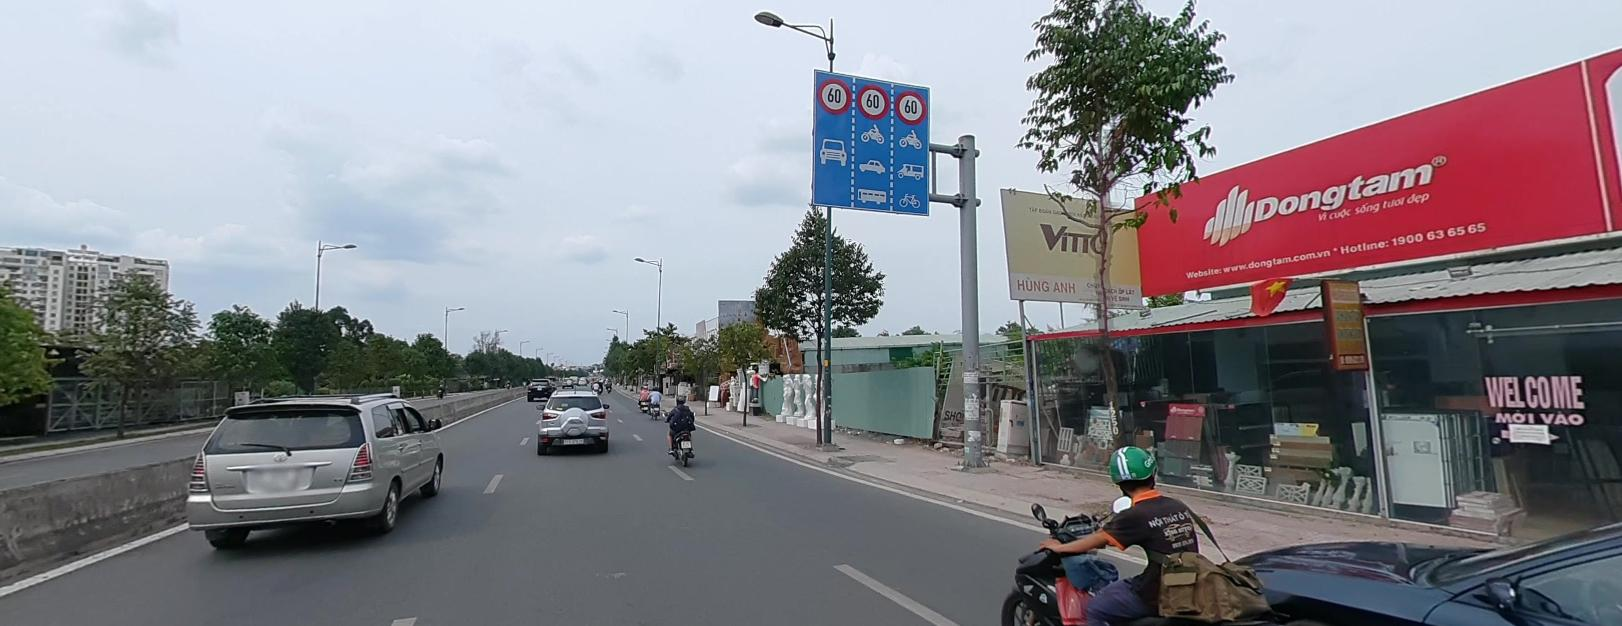Gioi han toc do: (816, 76, 850, 112), (857, 80, 888, 118), (894, 89, 927, 123)
